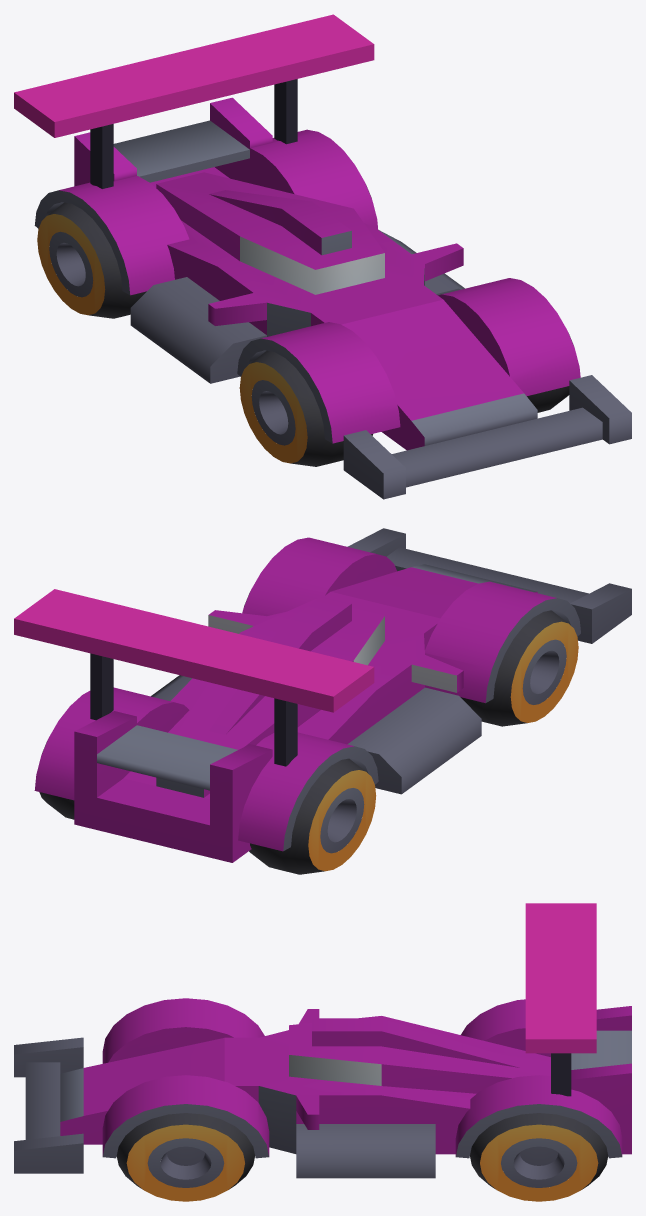
The model's file is vc-supercar.glb.
3 renders of one model, top to bottom at view 1: azimuth 30°, elevation 25°; view 2: azimuth 150°, elevation 25°; view 3: azimuth 270°, elevation 25°, orthographic. The views are drawn at different scales.
Parts seen in each view (by area): view 1: body, ridiculous-spoiler, wheel-front-right, wheel-back-right, spoiler-upright (×2); view 2: body, ridiculous-spoiler, wheel-back-right, wheel-front-right, spoiler-upright (×2), wheel-back-left; view 3: body, ridiculous-spoiler, wheel-back-left, wheel-front-left, spoiler-upright.
Boxes of the visible parts, x1=… form: body: x1=34, y1=97, x2=631, y2=499; ridiculous-spoiler: x1=14, y1=14, x2=374, y2=137; wheel-front-right: x1=239, y1=350, x2=372, y2=466; wheel-back-right: x1=37, y1=202, x2=146, y2=318; spoiler-upright (×2): x1=90, y1=79, x2=297, y2=188; body: x1=34, y1=528, x2=631, y2=862; ridiculous-spoiler: x1=14, y1=589, x2=374, y2=712; wheel-back-right: x1=249, y1=758, x2=376, y2=874; wheel-front-right: x1=460, y1=610, x2=578, y2=726; spoiler-upright (×2): x1=90, y1=653, x2=297, y2=766; wheel-back-left: x1=39, y1=741, x2=74, y2=819; body: x1=14, y1=998, x2=631, y2=1178; ridiculous-spoiler: x1=525, y1=903, x2=596, y2=1053; wheel-back-left: x1=470, y1=1113, x2=608, y2=1201; wheel-front-left: x1=116, y1=1113, x2=254, y2=1201; spoiler-upright: x1=551, y1=1053, x2=571, y2=1096.
Bounding box in the file's own units: 2.5 × 1.54 × 4.8.
